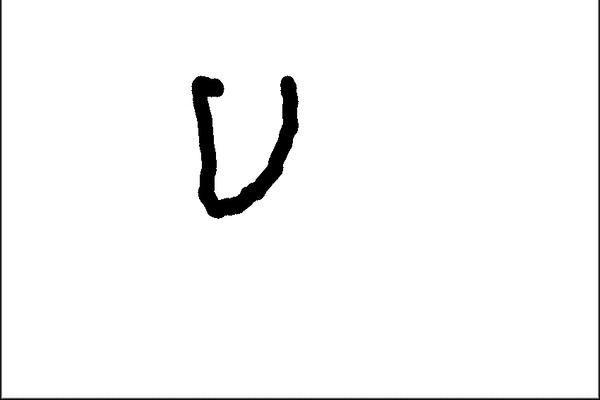U: (181, 65, 321, 232)
